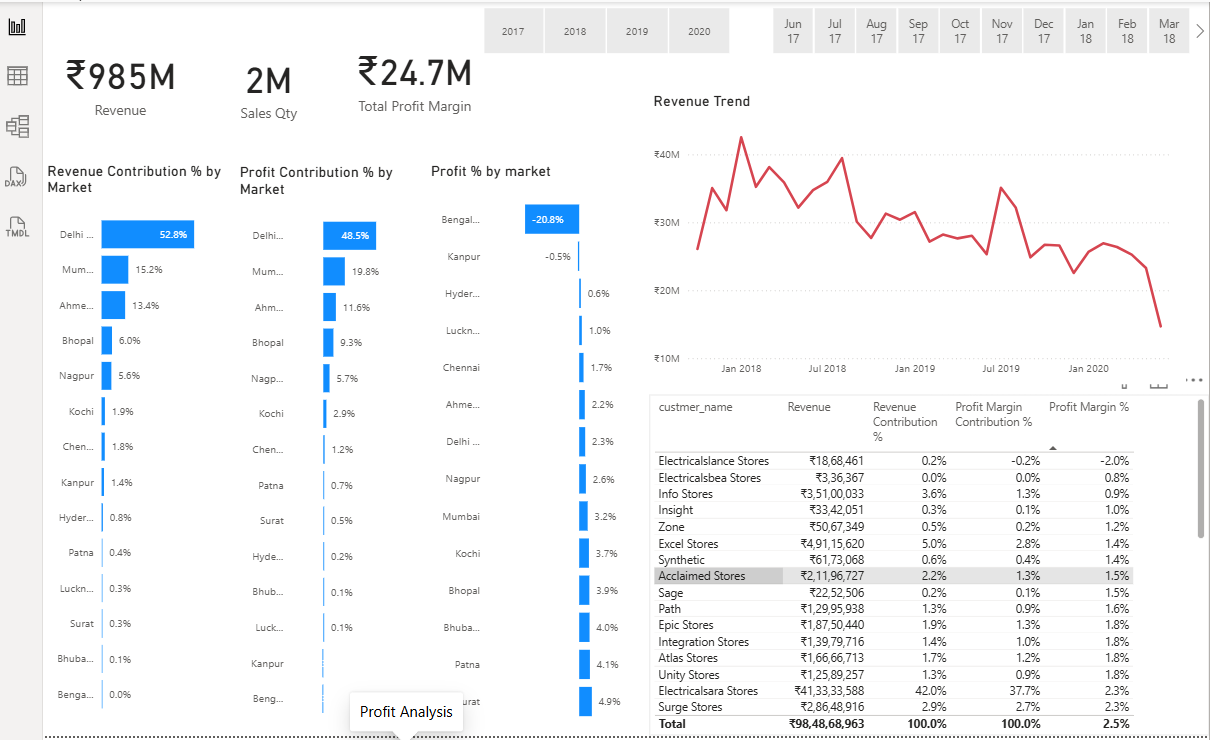

The page's visual inventory and layout, read from the dashboard file:
{"tool":"powerbi","page":{"name":"PROFITABILITY ANALYSIS","canvas":[1350,850],"ordinal":1},"visuals":[{"type":"card","fields":{"Values":["BaseMeasures (2).Revenue"]},"box":[0,0,179.6,184.8],"z":0},{"type":"card","fields":{"Values":["BaseMeasures (2).Sales Qty"]},"box":[179.5,0,164.1,193],"z":1000},{"type":"barChart","title":"Profit % by market","fields":{"Category":["sales markets.markets_name"],"Y":["BaseMeasures (2).Profit Margin %"]},"box":[445,184.9,230,664.5],"z":2000},{"type":"barChart","title":"Profit Contribution % by Market","fields":{"Category":["sales markets.markets_name"],"Y":["BaseMeasures (2).Profit Margin Contribution %"]},"box":[222.5,186.4,207.5,658.5],"z":3000},{"type":"slicer","fields":{"Values":["sales date.year"]},"box":[483.2,0,335.5,66.5],"z":4000},{"type":"slicer","fields":{"Values":["sales date.cy_date"]},"box":[818.6,0,531.7,66.5],"z":5000},{"type":"tableEx","title":"Top 5 Customers","fields":{"Values":["sales customers.custmer_name","BaseMeasures (2).Revenue","BaseMeasures (2).Revenue Contribution %","BaseMeasures (2).Profit Margin Contribution %","BaseMeasures (2).Profit Margin %"]},"box":[701.9,454.2,648.3,395.4],"z":6000},{"type":"lineChart","title":"Revenue Trend","fields":{"Category":["sales date.cy_date"],"Y":["BaseMeasures (2).Revenue"]},"box":[701.9,104.3,621.4,338.6],"z":7000},{"type":"card","fields":{"Values":["BaseMeasures (2).Total Profit Margin"]},"box":[349.9,0,161,176.5],"z":8000},{"type":"barChart","title":"Revenue Contribution % by Market","fields":{"Category":["sales markets.markets_name"],"Y":["BaseMeasures (2).Revenue Contribution %"]},"box":[0,185.8,219.9,654.5],"z":9000}]}

Visuals, with their boxes on the page's 1350x850 design canvas (x1, y1, x2, y2). These are canvas units, not pixel positions in the 1210x740 screenshot, which may show the page scaled, cropped or inside an application window:
card - BaseMeasures (2).Revenue: crop(0, 0, 180, 185)
card - BaseMeasures (2).Sales Qty: crop(180, 0, 344, 193)
"Profit % by market" barChart: crop(445, 185, 675, 849)
"Profit Contribution % by Market" barChart: crop(222, 186, 430, 845)
slicer - sales date.year: crop(483, 0, 819, 66)
slicer - sales date.cy_date: crop(819, 0, 1350, 66)
"Top 5 Customers" tableEx: crop(702, 454, 1350, 850)
"Revenue Trend" lineChart: crop(702, 104, 1323, 443)
card - BaseMeasures (2).Total Profit Margin: crop(350, 0, 511, 176)
"Revenue Contribution % by Market" barChart: crop(0, 186, 220, 840)
